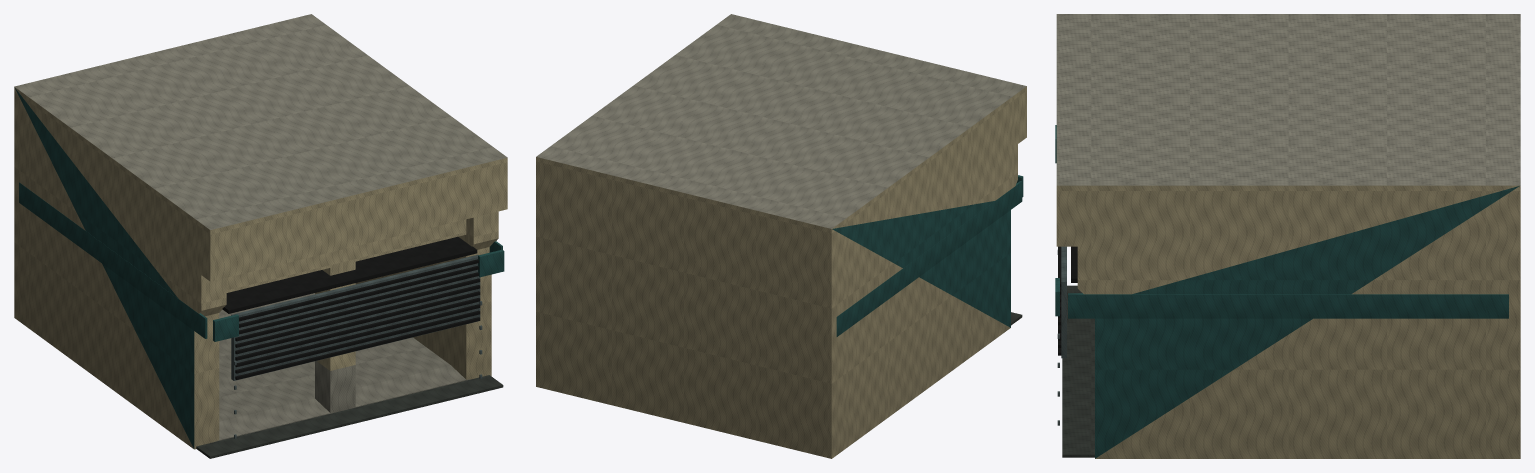
The model's file is pit-garage.glb.
3 views of the same model, side by side, from view 1: azimuth 30°, elevation 25°; view 2: azimuth 150°, elevation 25°; view 3: azimuth 270°, elevation 25° (orthographic). The views are drawn at different scales.
Parts seen in each view (by area): view 1: pitsGarage(Clone), garage-half-raised-roller, garage-dark-ceiling, garage-worn-floor, garage-side-stripe, garage-front-door-slat-4, garage-front-door-slat-6, garage-front-door-slat-0, garage-front-door-slat-1, garage-front-door-slat-3, garage-front-door-slat-5, garage-front-door-slat-2 (+5 smaller); view 2: pitsGarage(Clone), garage-side-stripe; view 3: pitsGarage(Clone), garage-side-stripe.001, garage-worn-floor, garage-half-raised-roller.
Boxes of the visible parts, x1=… form: pitsGarage(Clone): x1=14, y1=14, x2=507, y2=449; garage-half-raised-roller: x1=231, y1=254, x2=480, y2=380; garage-dark-ceiling: x1=222, y1=236, x2=477, y2=313; garage-worn-floor: x1=196, y1=375, x2=503, y2=458; garage-side-stripe: x1=19, y1=182, x2=207, y2=338; garage-front-door-slat-4: x1=235, y1=291, x2=480, y2=354; garage-front-door-slat-6: x1=235, y1=278, x2=480, y2=341; garage-front-door-slat-0: x1=235, y1=317, x2=480, y2=379; garage-front-door-slat-1: x1=235, y1=310, x2=480, y2=373; garage-front-door-slat-3: x1=235, y1=298, x2=480, y2=360; garage-front-door-slat-5: x1=235, y1=285, x2=480, y2=347; garage-front-door-slat-2: x1=235, y1=304, x2=480, y2=367; pitsGarage(Clone): x1=536, y1=14, x2=1026, y2=458; garage-side-stripe: x1=836, y1=181, x2=1022, y2=336; pitsGarage(Clone): x1=1056, y1=14, x2=1520, y2=458; garage-side-stripe.001: x1=1068, y1=293, x2=1508, y2=318; garage-worn-floor: x1=1062, y1=285, x2=1094, y2=457; garage-half-raised-roller: x1=1061, y1=246, x2=1066, y2=358.
Bounding box in the file's own units: 7.01 × 5.2 × 8.02.
Materials: 6 (6 with a texture image).
